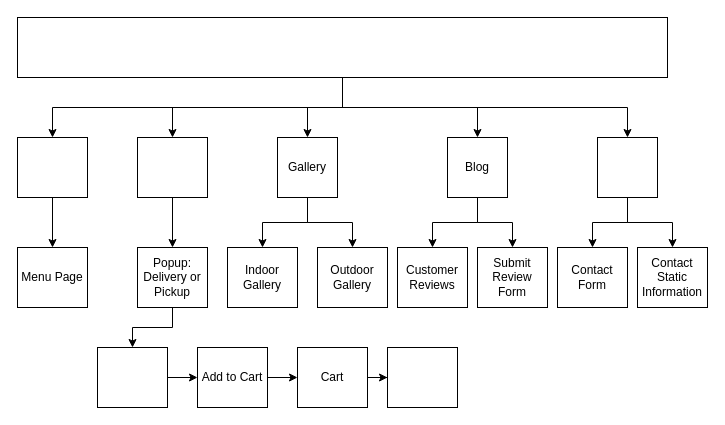
The diagram is 725 pixels wide and 425 high, and some of its shapes have lost their labels. Here are the shapes that lost their labels. From the top down, the box of each, then its label:
(16, 16, 668, 78): Home
(16, 136, 88, 198): Menu
(136, 136, 208, 198): Online Order
(596, 136, 658, 198): Contact
(96, 346, 168, 408): Online Menu Items
(386, 346, 458, 408): Pay
